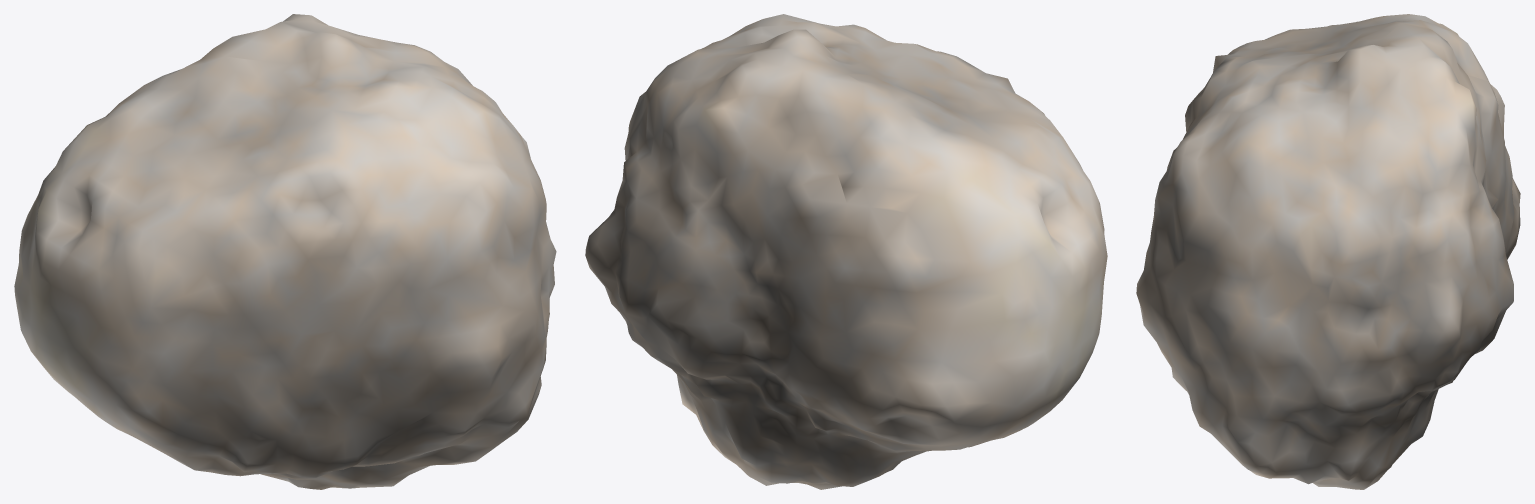
Rendered from asteroid_M_B.glb.
3 views of the same model, side by side, from view 1: azimuth 30°, elevation 25°; view 2: azimuth 150°, elevation 25°; view 3: azimuth 270°, elevation 25° (orthographic). The views are drawn at different scales.
Parts seen in each view (by area): view 1: VR_Rock_M_B; view 2: VR_Rock_M_B; view 3: VR_Rock_M_B.
Part boxes in pixels (box(x1,y1,x2,y2)): VR_Rock_M_B: box(14, 14, 556, 489); VR_Rock_M_B: box(585, 14, 1107, 489); VR_Rock_M_B: box(1136, 14, 1520, 489).
Size of the model in its own units: 2.21 by 2.07 by 1.69.
